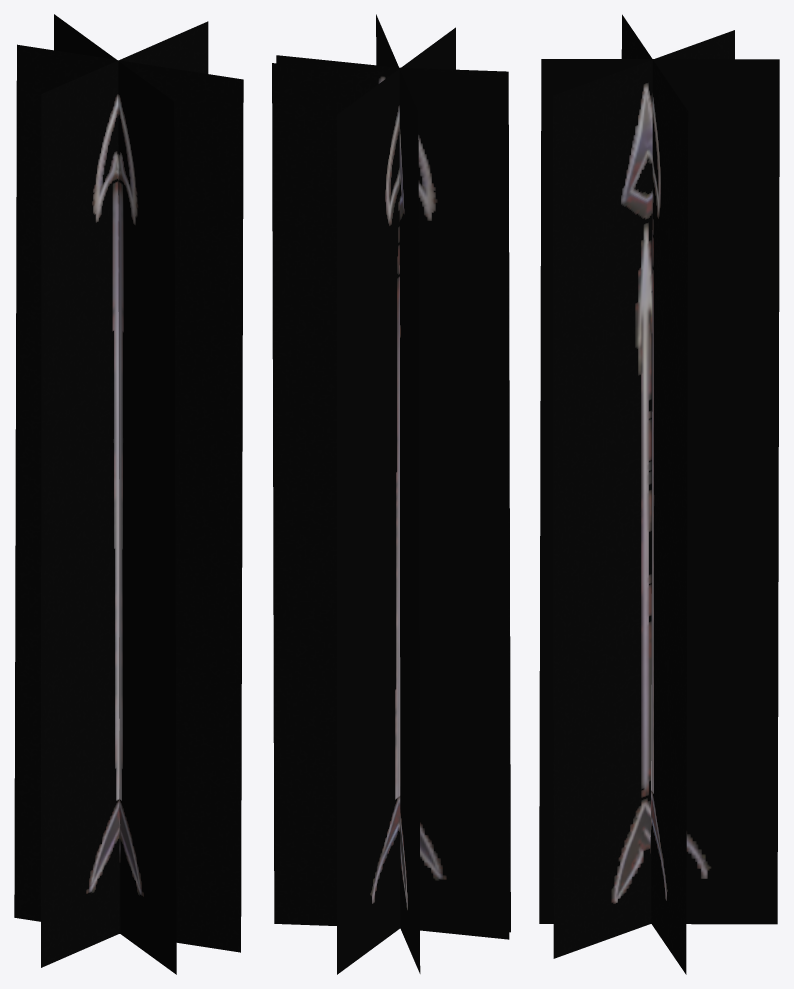
Rendered from arrows.glb.
3 views of the same model, side by side, from view 1: azimuth 30°, elevation 25°; view 2: azimuth 150°, elevation 25°; view 3: azimuth 270°, elevation 25° (orthographic).
Visible parts, largest first — view 1: moonArrow3.001, moonArrow1.001, moonArrow1.002; view 2: moonArrow1.001, moonArrow2.001, moonArrow1.002, moonArrow3.001; view 3: moonArrow1.002, moonArrow3.001, moonArrow1.001.
Boxes of the visible parts, x1,y1,x2,y2 form: moonArrow3.001: (14,44,243,952); moonArrow1.001: (41,21,208,967); moonArrow1.002: (54,14,176,974); moonArrow1.001: (276,55,509,939); moonArrow2.001: (272,63,510,932); moonArrow1.002: (337,27,455,974); moonArrow3.001: (376,14,420,973); moonArrow1.002: (539,59,779,924); moonArrow3.001: (553,30,734,958); moonArrow1.001: (621,14,688,974).
Bounding box in the file's own units: 0.4838 × 2 × 0.5045.
Materials: 3 (3 with a texture image).
